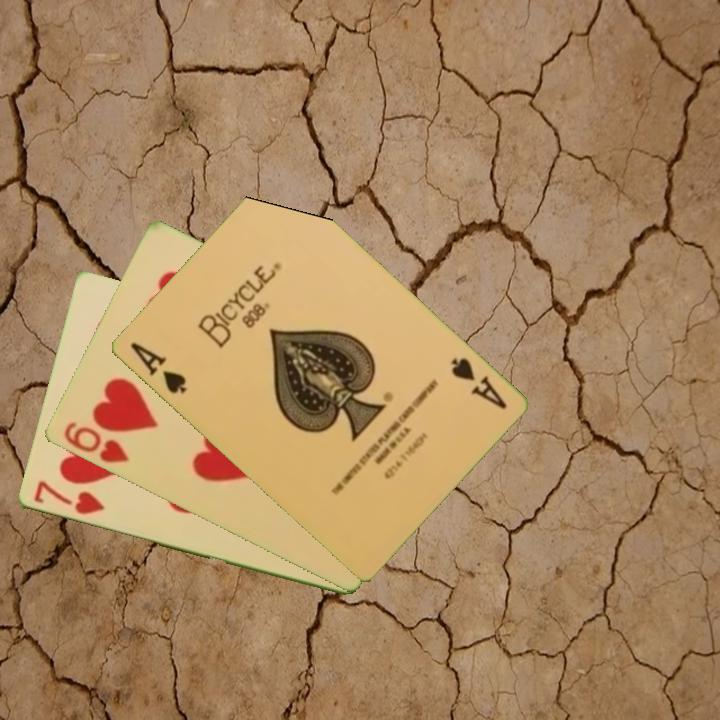6h: (59, 418, 132, 466)
7h: (30, 477, 107, 518)
As: (125, 338, 189, 397), (447, 354, 509, 413)
